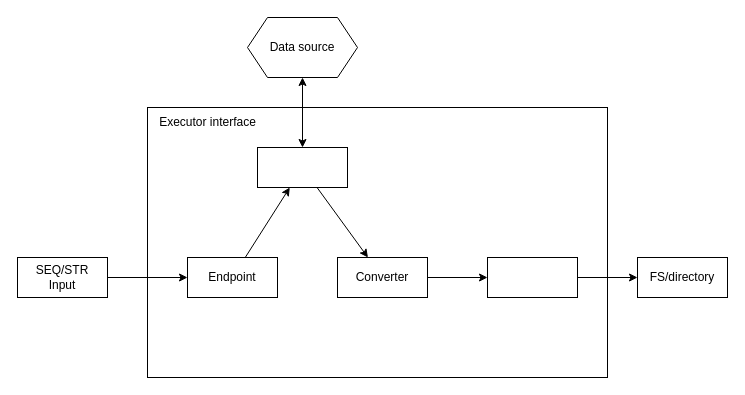
This 745x395 diagram has some shape labels left out. The shapes that lost their labels are listed below. From the top down, each one's centre as x and y in pixels, then its label:
At [302,167]: "Fetcher".
At [532,277]: "Writer".
